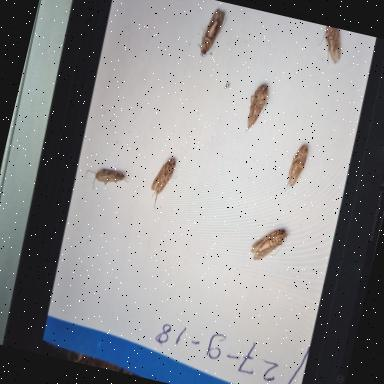pbw: (144, 154, 178, 214), (196, 7, 229, 62), (249, 224, 290, 268), (82, 164, 131, 198), (244, 80, 272, 136), (314, 25, 347, 70), (284, 142, 310, 196)
